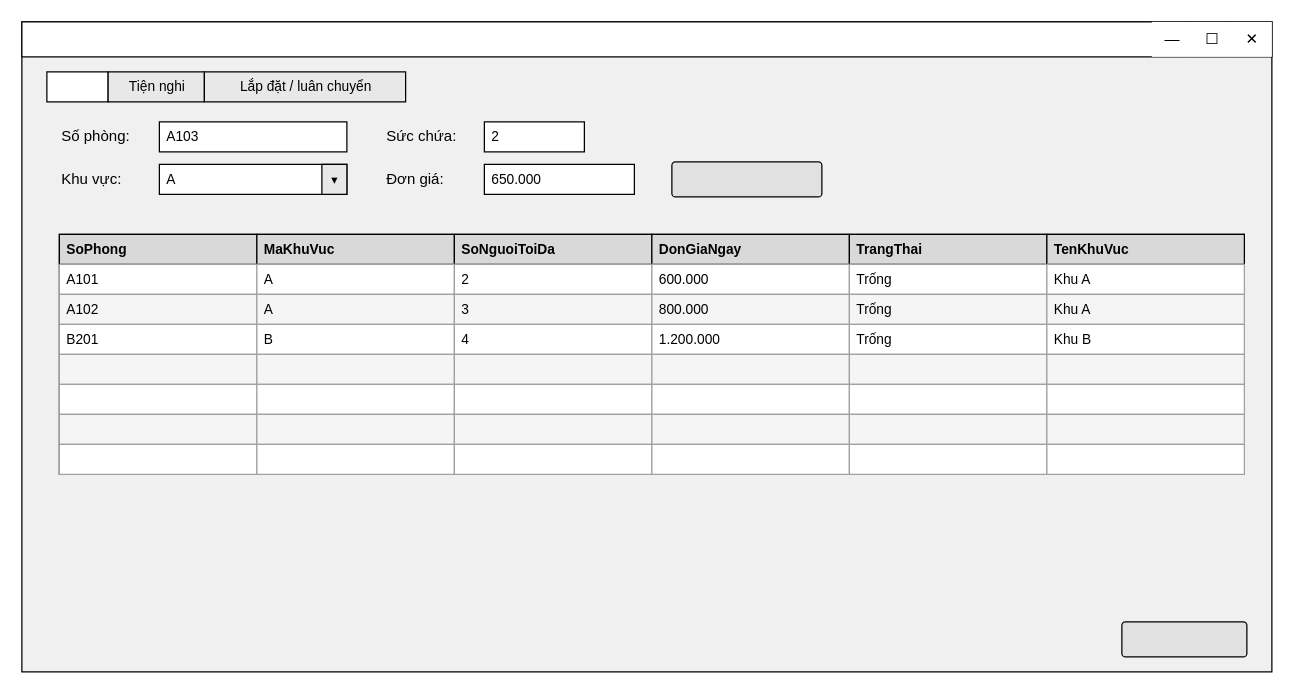
Image size: 1294x694. Some labels were removed from this diagram. Each missing label, with the box of its shape:
Phòng: (46, 71, 108, 102)
Phòng - Tiện nghi: (21, 21, 1272, 57)
Thêm phòng: (671, 161, 822, 197)
Đóng: (1121, 621, 1247, 657)
